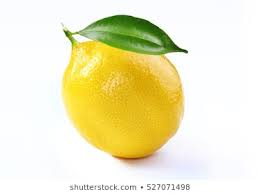lemon: (53, 21, 197, 176)
